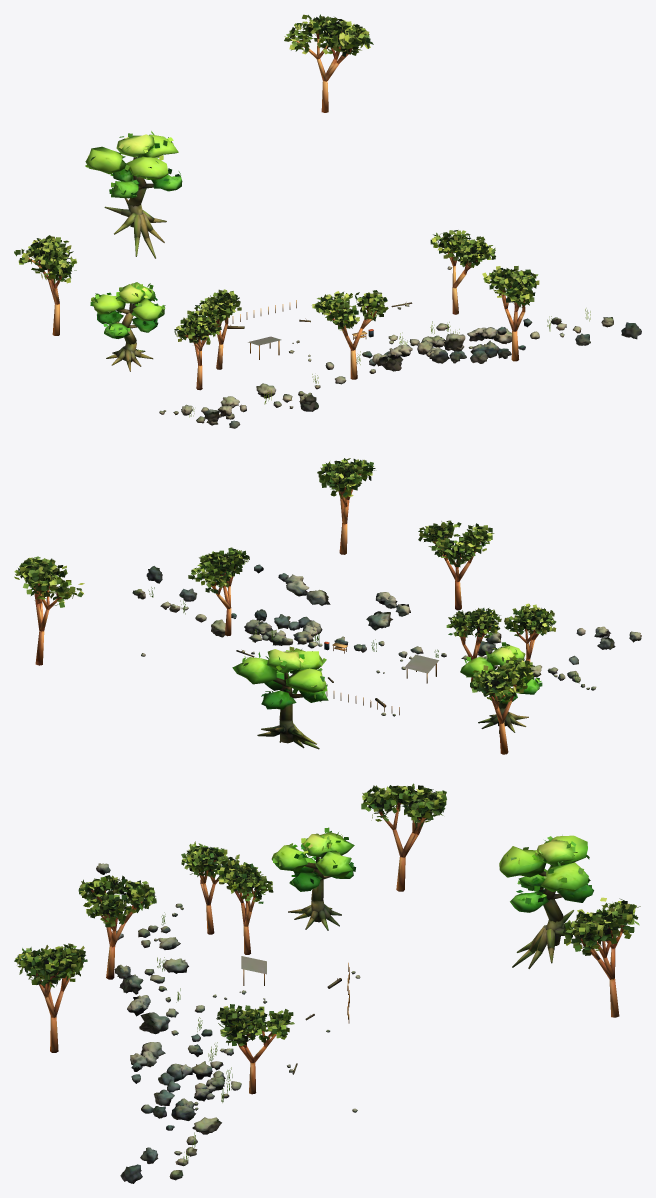
File: hoy_objetos.glb
3 renders of one model, top to bottom at view 1: azimuth 30°, elevation 25°; view 2: azimuth 150°, elevation 25°; view 3: azimuth 270°, elevation 25°, orthographic. The views are drawn at different scales.
Parts seen in each view (by area): view 1: Objetos; view 2: Objetos; view 3: Objetos.
Boxes of the visible parts, bbox=[...] form: Objetos: bbox=[14, 14, 641, 428]; Objetos: bbox=[14, 458, 641, 754]; Objetos: bbox=[14, 783, 640, 1183].
Bounding box in the file's own units: 75.87 × 29.01 × 73.06.
Materials: 1 (1 with a texture image).
